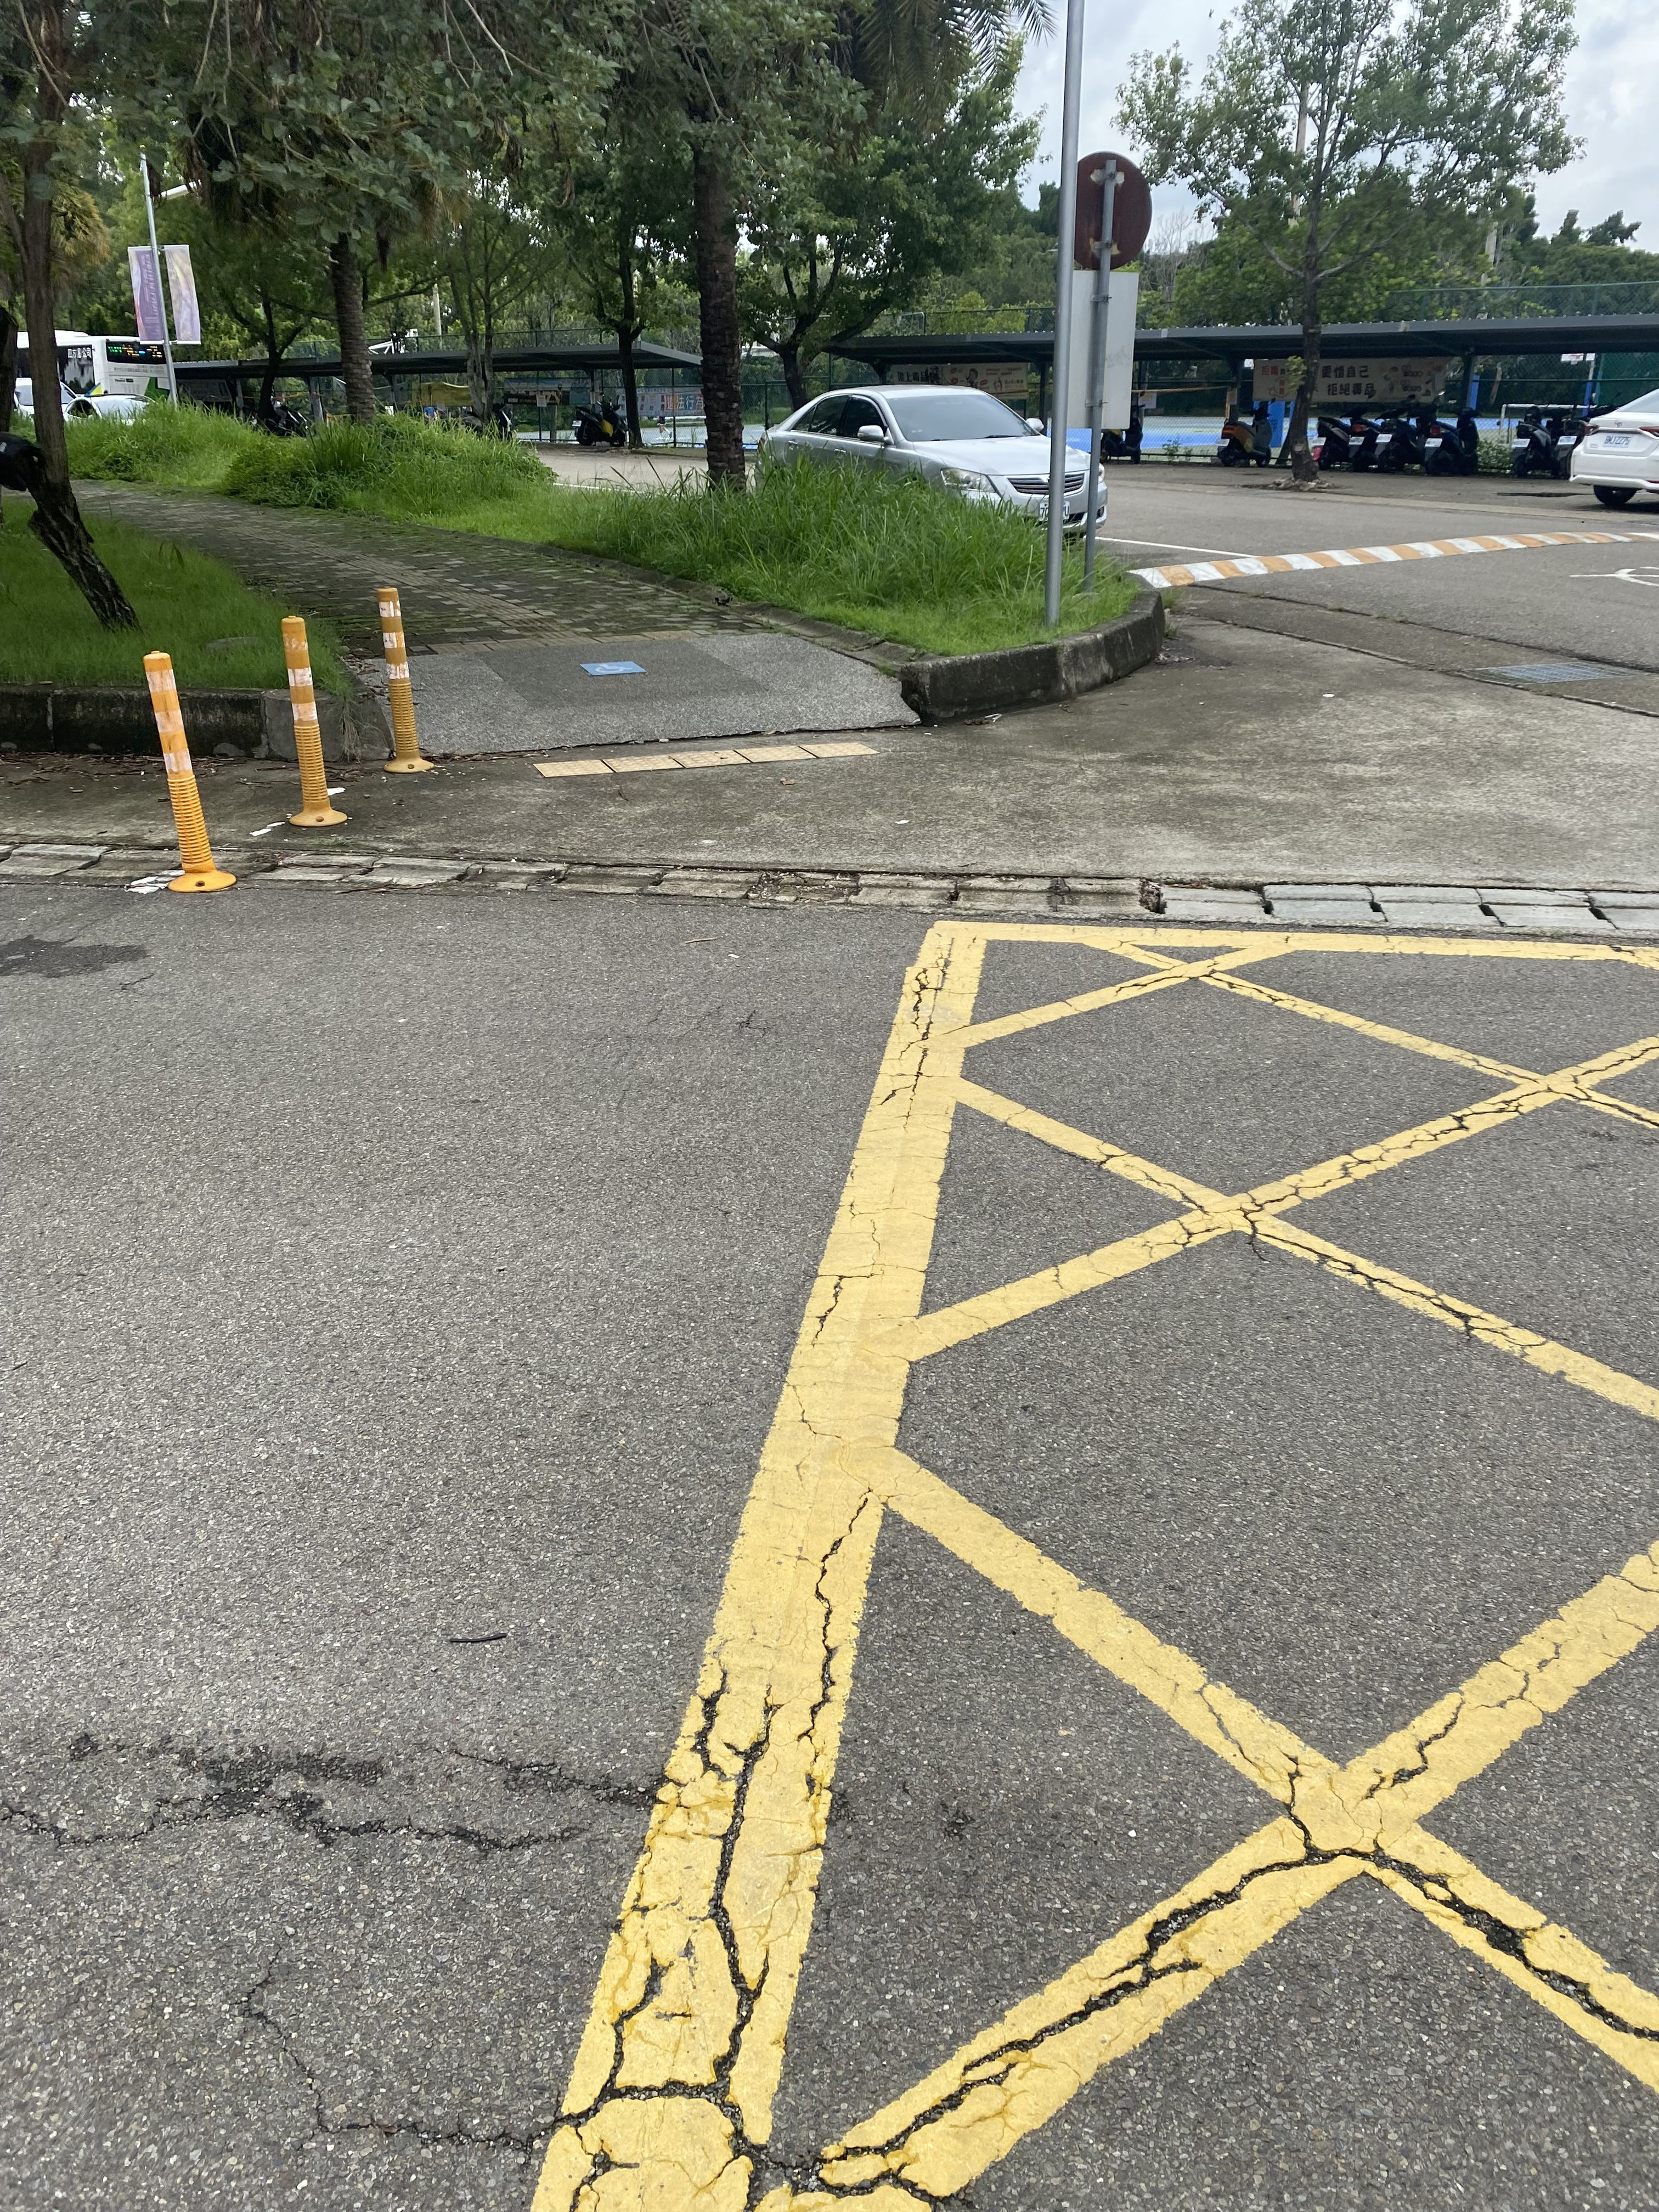sidewalk: (207, 488, 955, 772)
